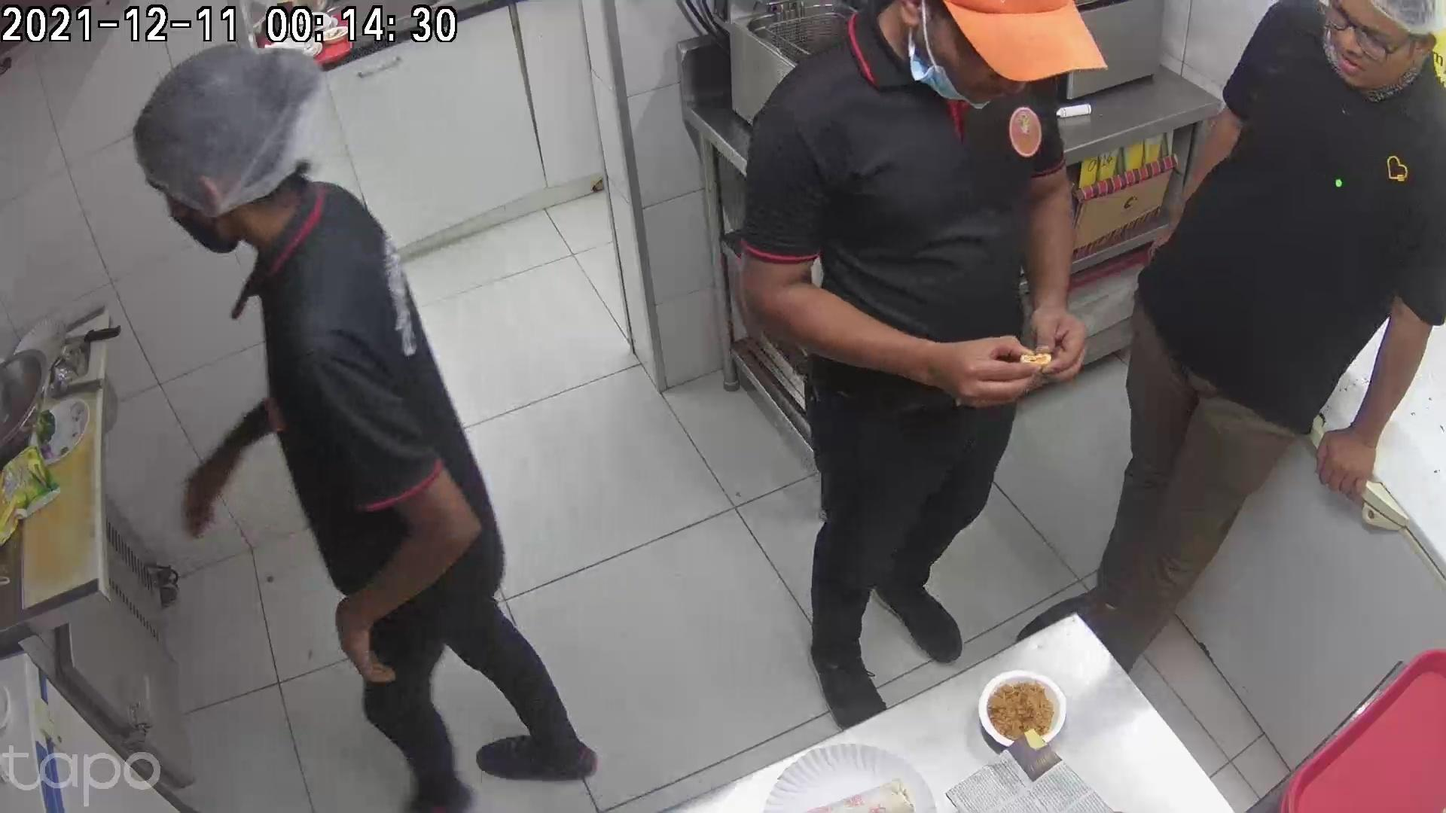no_gloves: (599, 350, 754, 436)
